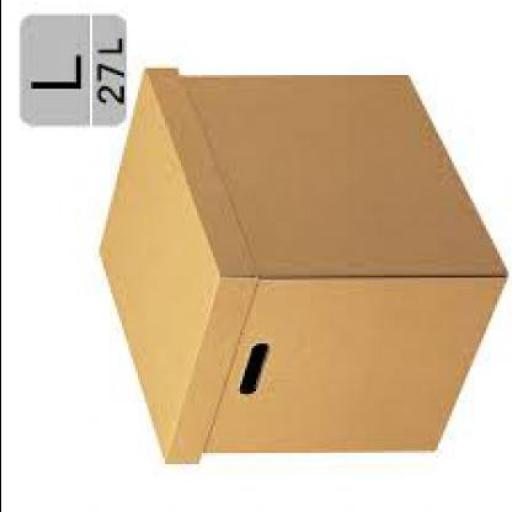cardboard: (94, 70, 504, 469)
